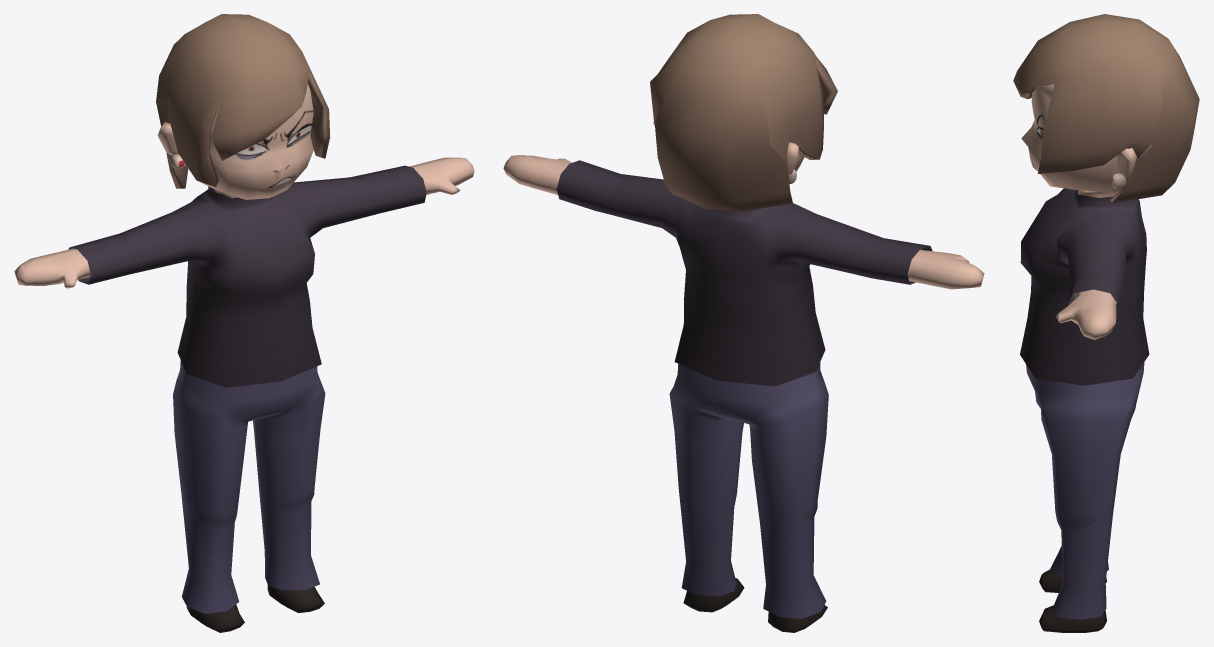
Rendered from MotherModel.fbx.
3 renders of one model, left to right at view 1: azimuth 30°, elevation 25°; view 2: azimuth 150°, elevation 25°; view 3: azimuth 270°, elevation 25°, orthographic. The views are drawn at different scales.
Parts seen in each view (by area): view 1: pasted__pCube9; view 2: pasted__pCube9; view 3: pasted__pCube9.
Part boxes in pixels (x1,y1,x2,y2): pasted__pCube9: [14, 14, 474, 632]; pasted__pCube9: [503, 14, 984, 632]; pasted__pCube9: [1013, 14, 1199, 632].
Size of the model in its own units: 3.15 by 3.8 by 1.1.
